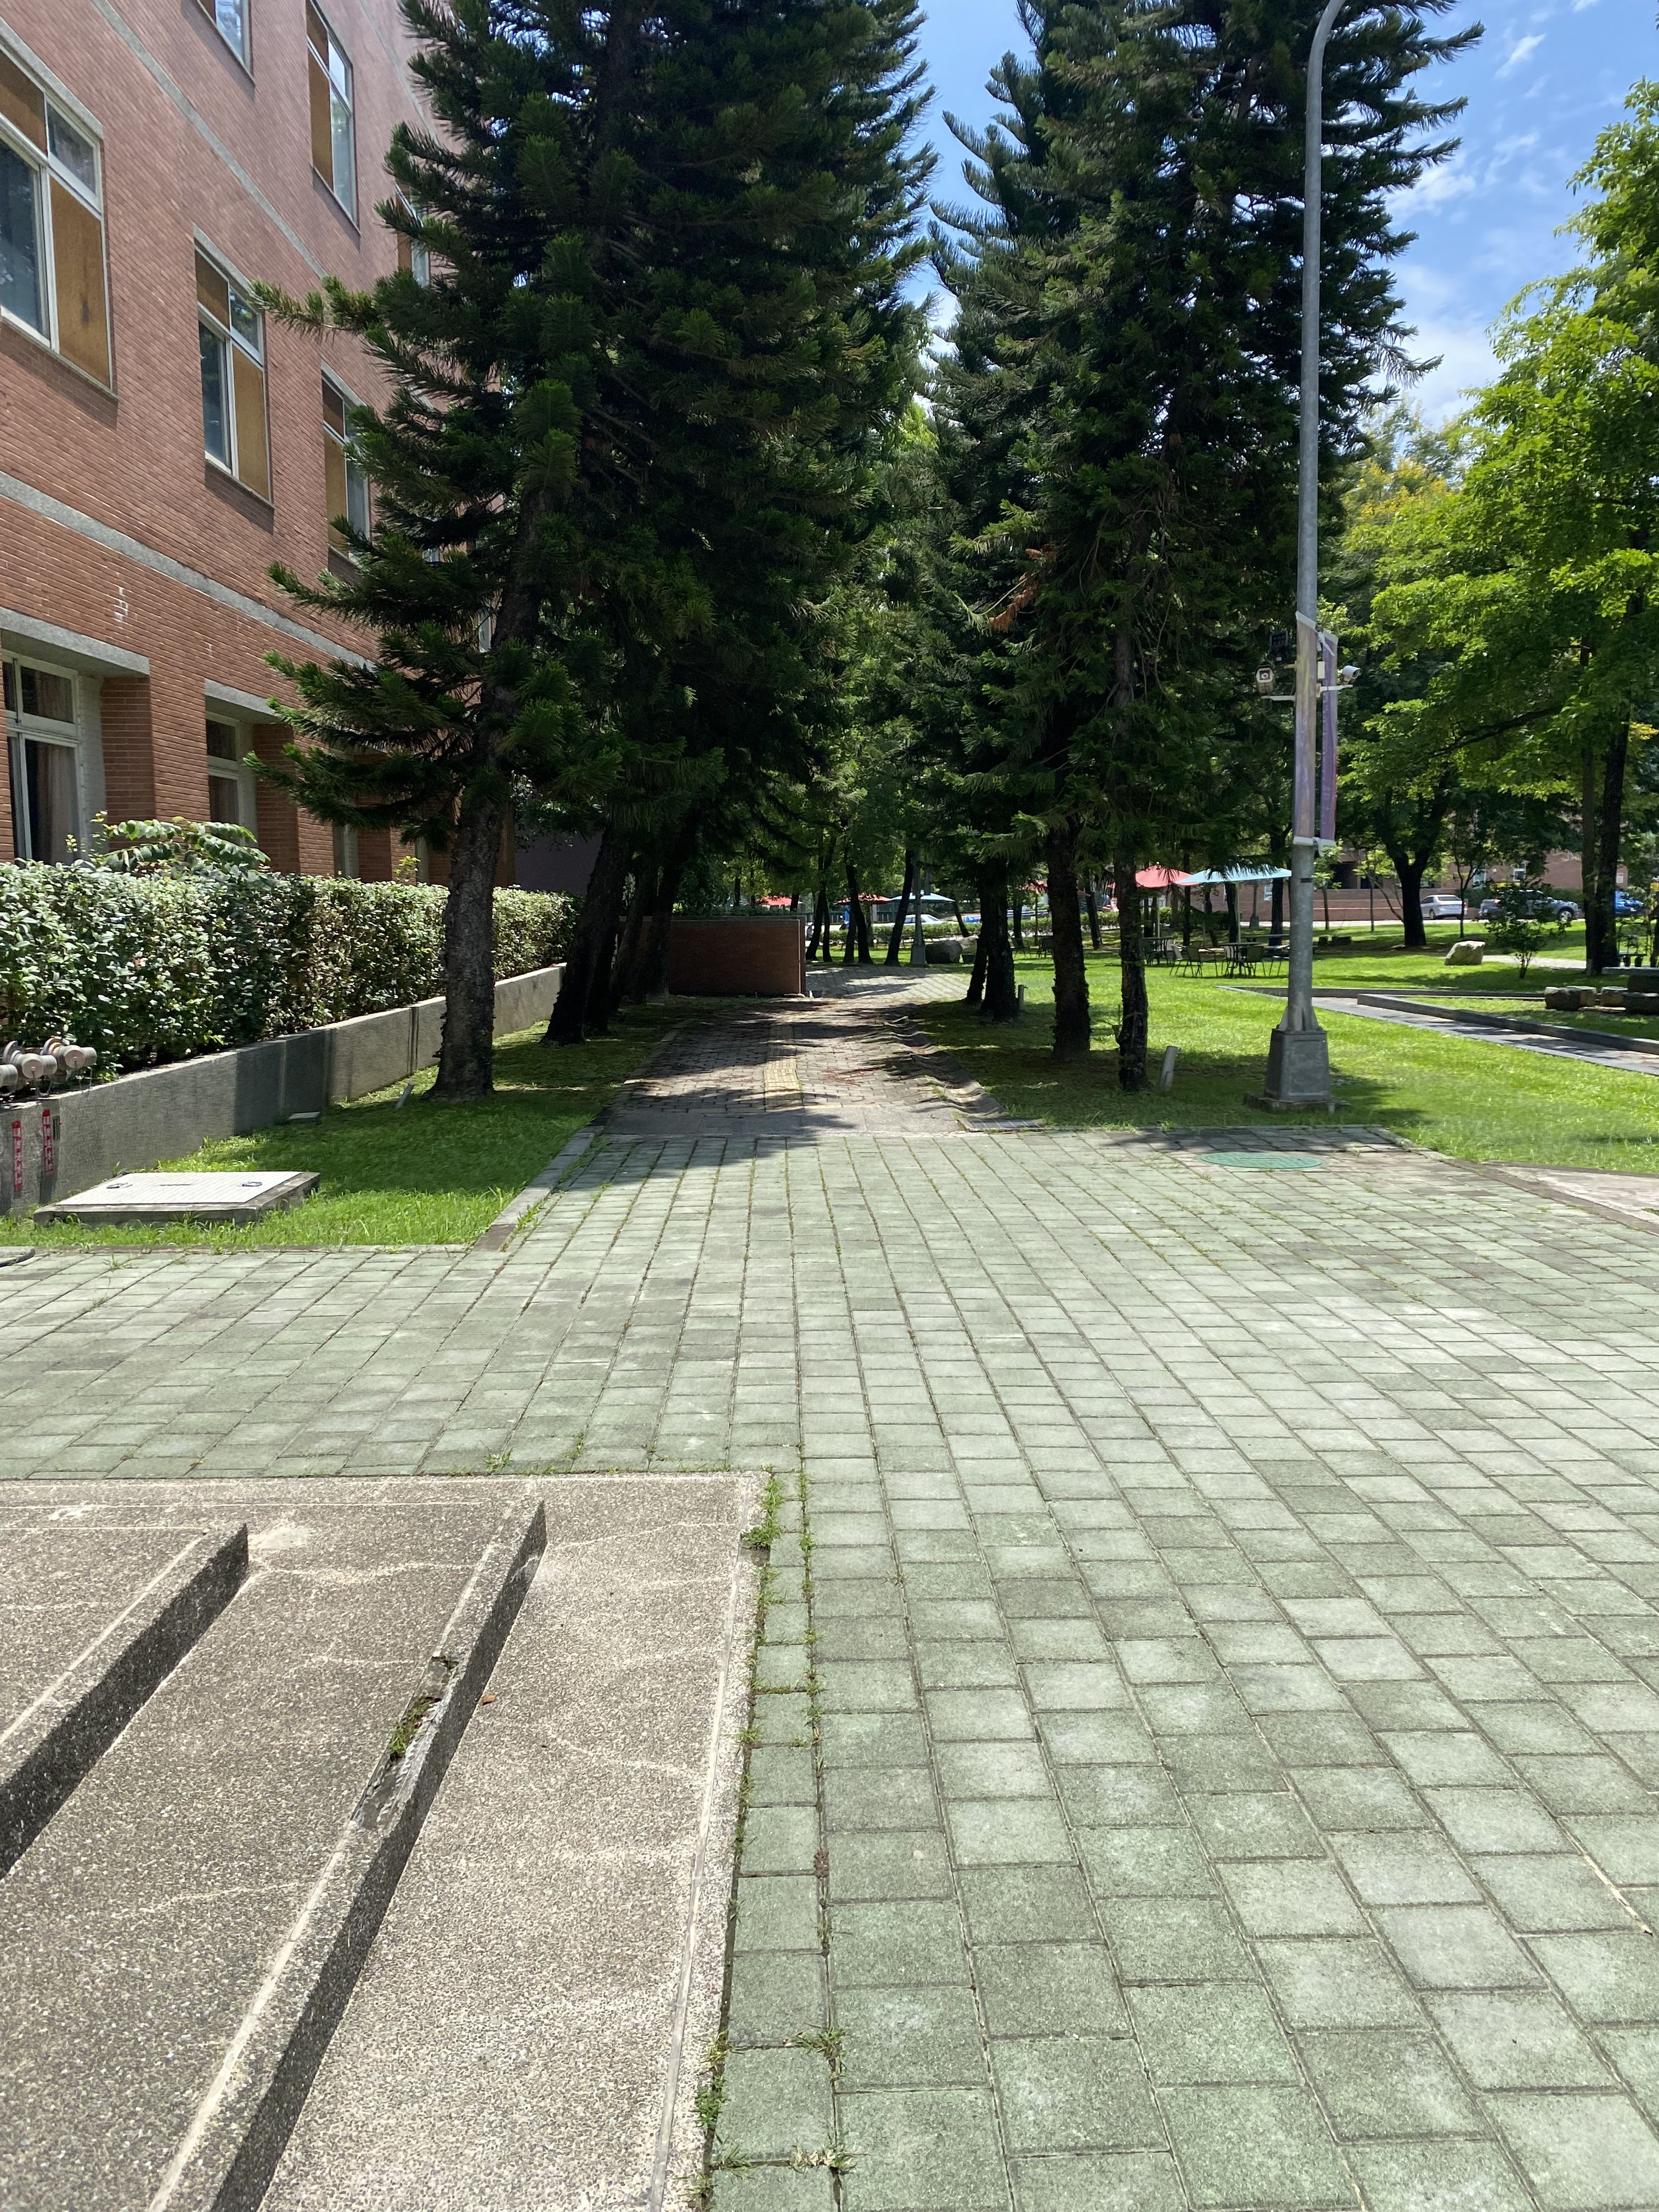sidewalk: (427, 855, 1659, 2212)
